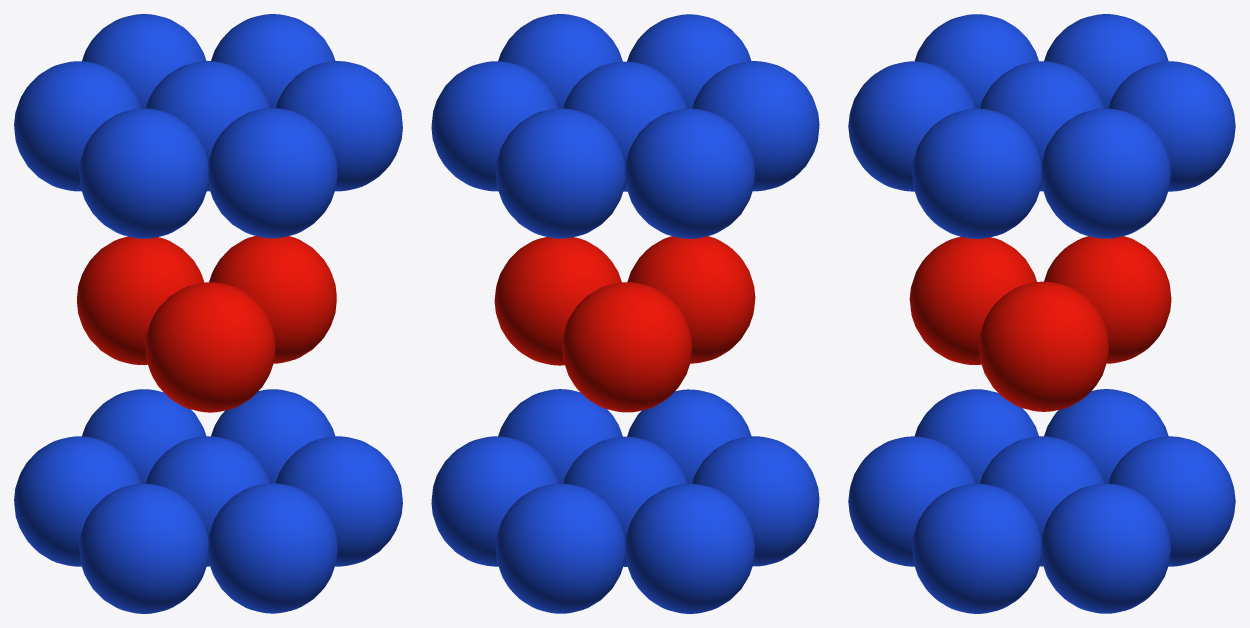
File: 3-D[hexagonal(ABA)] extended .glb
3 renders of one model, left to right at view 1: azimuth 30°, elevation 25°; view 2: azimuth 150°, elevation 25°; view 3: azimuth 270°, elevation 25°, orthographic.
Visible parts, largest first — view 1: Sphere.006, Sphere.012, Sphere.002, Sphere.005, Sphere.013, Sphere, Sphere.014, Sphere.007, Sphere.010, Sphere.003, Sphere.001, Sphere.016 (+5 smaller); view 2: Sphere, Sphere.007, Sphere.008, Sphere.015, Sphere.014, Sphere.001, Sphere.013, Sphere.006, Sphere.004, Sphere.011, Sphere.002, Sphere.009 (+5 smaller); view 3: Sphere.003, Sphere.010, Sphere.004, Sphere.011, Sphere.001, Sphere.002, Sphere.008, Sphere.015, Sphere.005, Sphere.012, Sphere, Sphere.009 (+5 smaller).
Boxes of the visible parts, x1,y1,x2,y2 form: Sphere.006: (79,108,208,238); Sphere.012: (208,483,337,613); Sphere.002: (145,282,275,412); Sphere.005: (208,108,337,238); Sphere.013: (79,483,208,613); Sphere: (77,236,204,364); Sphere.014: (14,436,141,566); Sphere.007: (14,61,141,191); Sphere.010: (276,436,402,566); Sphere.003: (276,61,402,191); Sphere.001: (209,236,336,363); Sphere.016: (146,436,270,566); Sphere: (562,282,692,412); Sphere.007: (625,108,754,238); Sphere.008: (496,108,625,238); Sphere.015: (496,483,625,613); Sphere.014: (625,483,754,613); Sphere.001: (494,237,621,365); Sphere.013: (692,436,819,566); Sphere.006: (692,61,819,191); Sphere.004: (431,61,558,191); Sphere.011: (431,436,558,566); Sphere.002: (627,236,755,363); Sphere.009: (563,61,687,191); Sphere.003: (912,108,1041,238); Sphere.010: (912,483,1041,613); Sphere.004: (1041,108,1170,238); Sphere.011: (1041,483,1170,613); Sphere.001: (979,281,1108,411); Sphere.002: (909,236,1036,364); Sphere.008: (1108,61,1235,191); Sphere.015: (1108,436,1235,566); Sphere.005: (848,61,975,191); Sphere.012: (848,436,975,566); Sphere: (1044,236,1171,363); Sphere.009: (980,61,1104,191).
Size of the model in its own units: 5.44 by 8.35 by 5.94.
